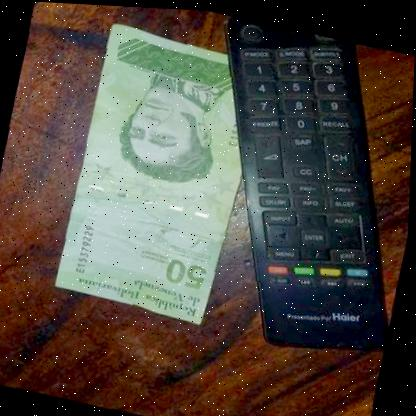fifty-front-vef: (54, 19, 265, 326)
